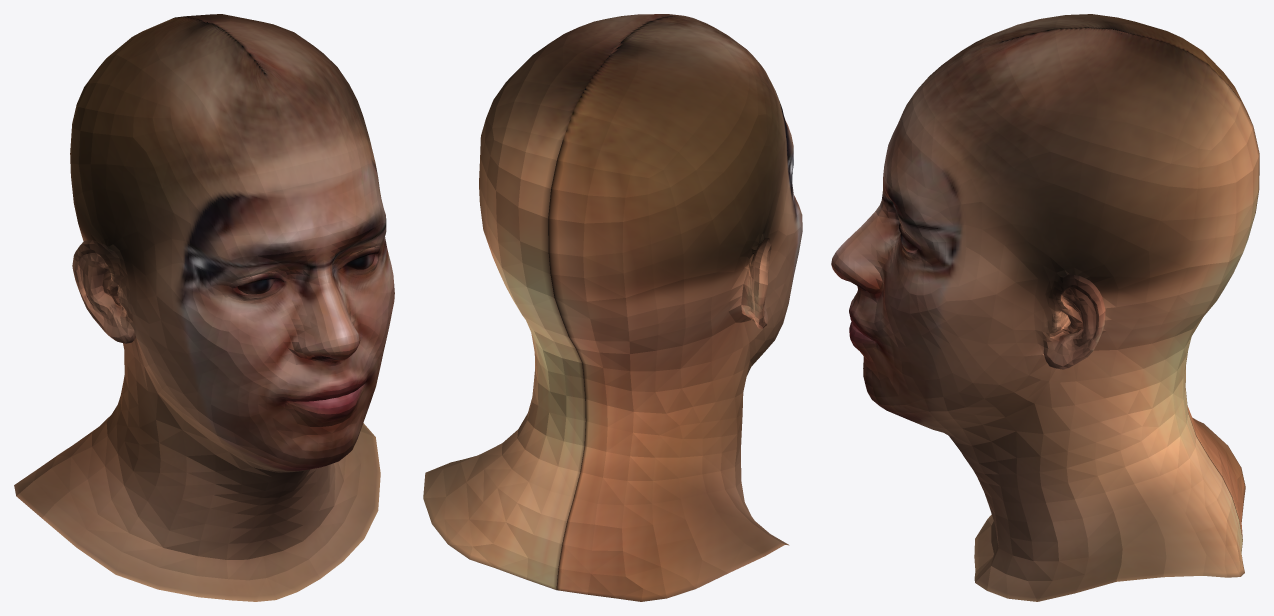
3 renders of one model, left to right at view 1: azimuth 30°, elevation 25°; view 2: azimuth 150°, elevation 25°; view 3: azimuth 270°, elevation 25°, orthographic. The views are drawn at different scales.
Visible parts, largest first — view 1: 1717403177; view 2: 1717403177; view 3: 1717403177.
Part boxes in pixels (bbox=[...]): 1717403177: bbox=[14, 14, 394, 601]; 1717403177: bbox=[423, 14, 802, 601]; 1717403177: bbox=[831, 14, 1259, 601].
Bounding box in the file's own units: 21.49 × 32.11 × 22.91.
Materials: 1 (1 with a texture image).
